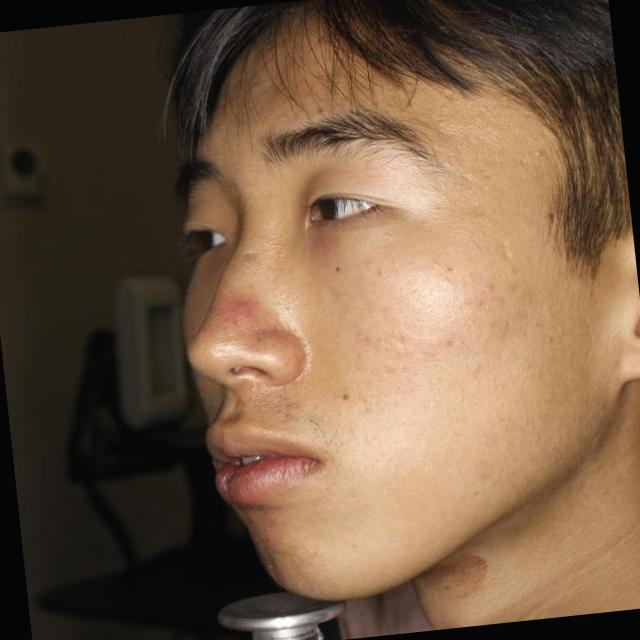acne: (225, 292, 261, 322)
